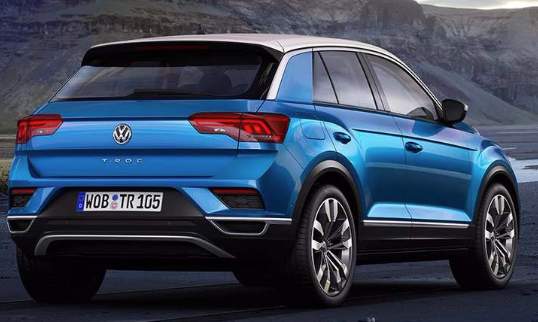car: (5, 31, 521, 309)
